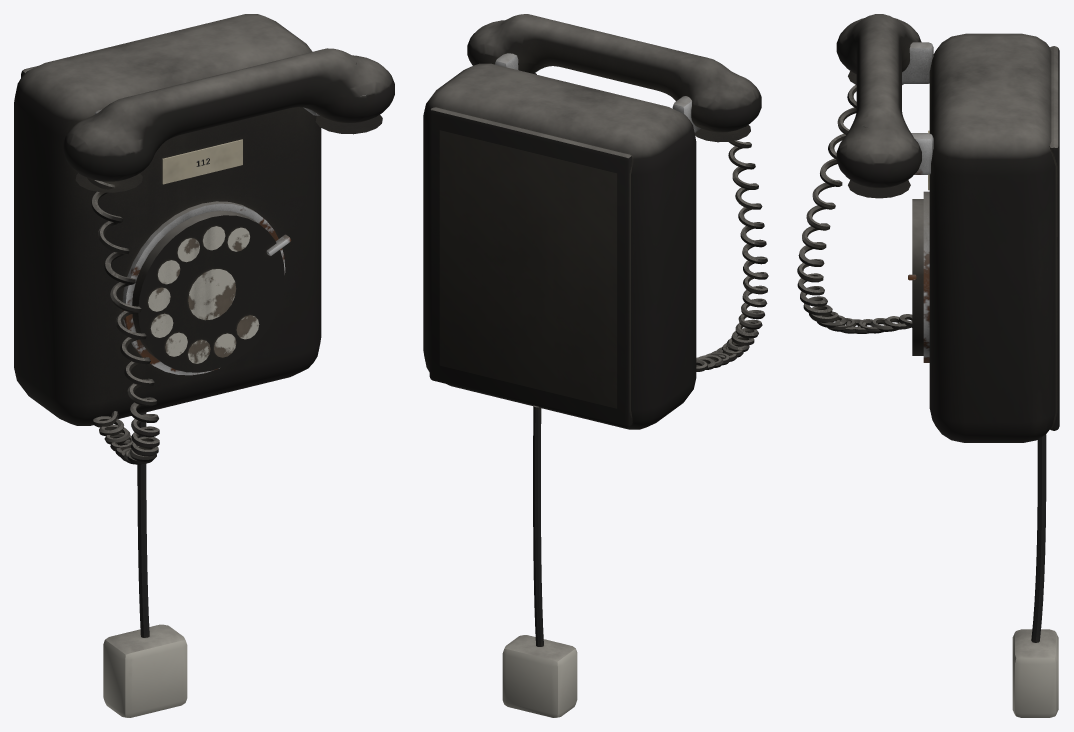
The model's file is SM_Telephone_Wall.fbx.
3 renders of one model, left to right at view 1: azimuth 30°, elevation 25°; view 2: azimuth 150°, elevation 25°; view 3: azimuth 270°, elevation 25°, orthographic. The views are drawn at different scales.
Parts seen in each view (by area): view 1: SM_Telephone_Wall; view 2: SM_Telephone_Wall; view 3: SM_Telephone_Wall.
Part boxes in pixels (bbox=[...]): SM_Telephone_Wall: bbox=[14, 14, 394, 717]; SM_Telephone_Wall: bbox=[423, 14, 768, 717]; SM_Telephone_Wall: bbox=[797, 14, 1059, 717].
Size of the model in its own units: 0.2393 by 0.4958 by 0.1832.
Materials: 1 (1 with a texture image).
